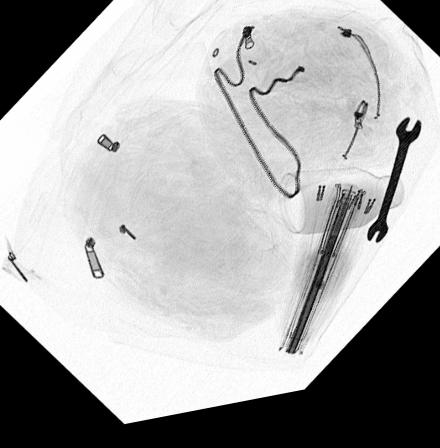Wrench: (363, 131, 420, 261)
